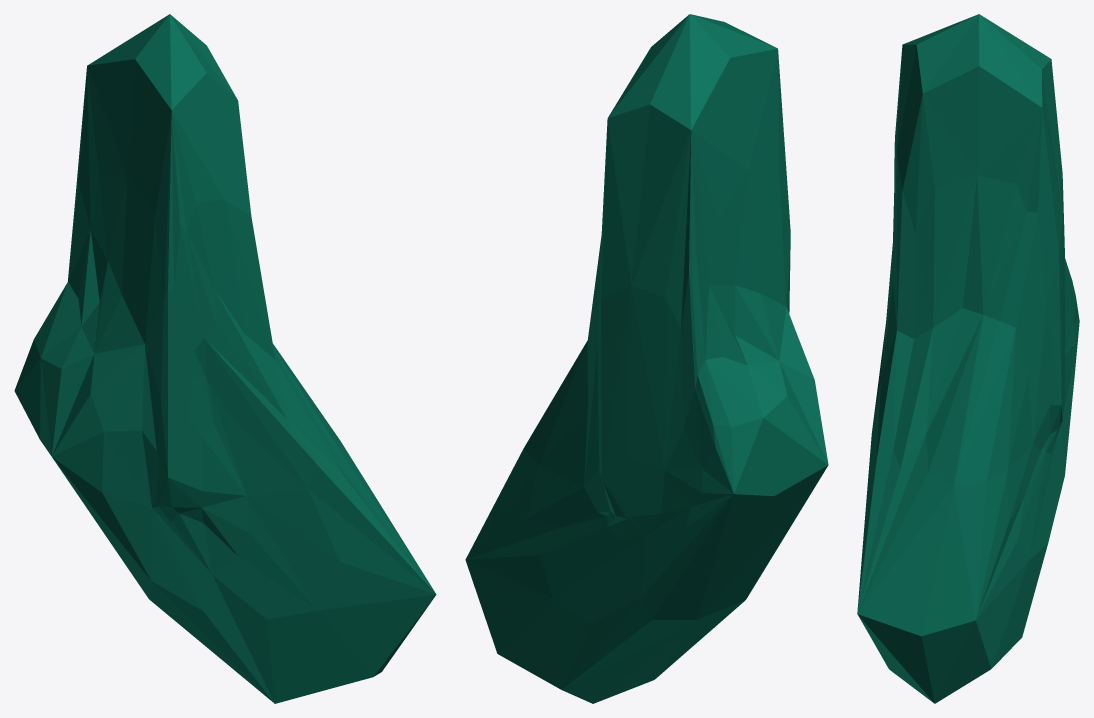
3 renders of one model, left to right at view 1: azimuth 30°, elevation 25°; view 2: azimuth 150°, elevation 25°; view 3: azimuth 270°, elevation 25°, orthographic. The views are drawn at different scales.
Parts seen in each view (by area): view 1: 793_Cube.3196; view 2: 793_Cube.3196; view 3: 793_Cube.3196.
Part boxes in pixels (x1,y1,x2,y2): 793_Cube.3196: (14, 14, 436, 703); 793_Cube.3196: (465, 14, 828, 703); 793_Cube.3196: (857, 14, 1079, 703).
Bounding box in the file's own units: 9.25 × 17.78 × 5.86.
